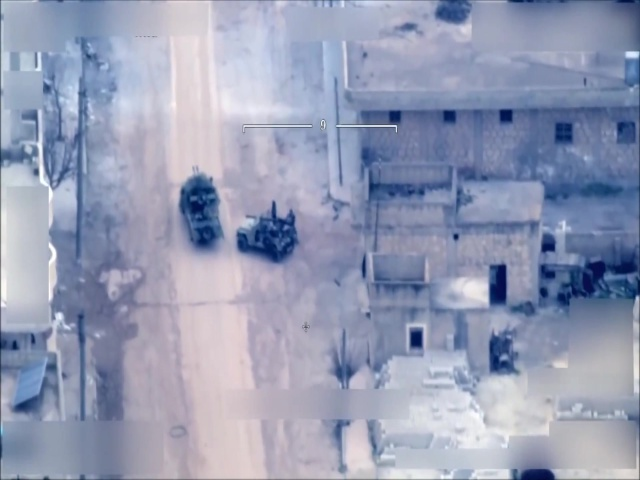vehicle: (235, 206, 298, 264), (180, 174, 224, 243)
